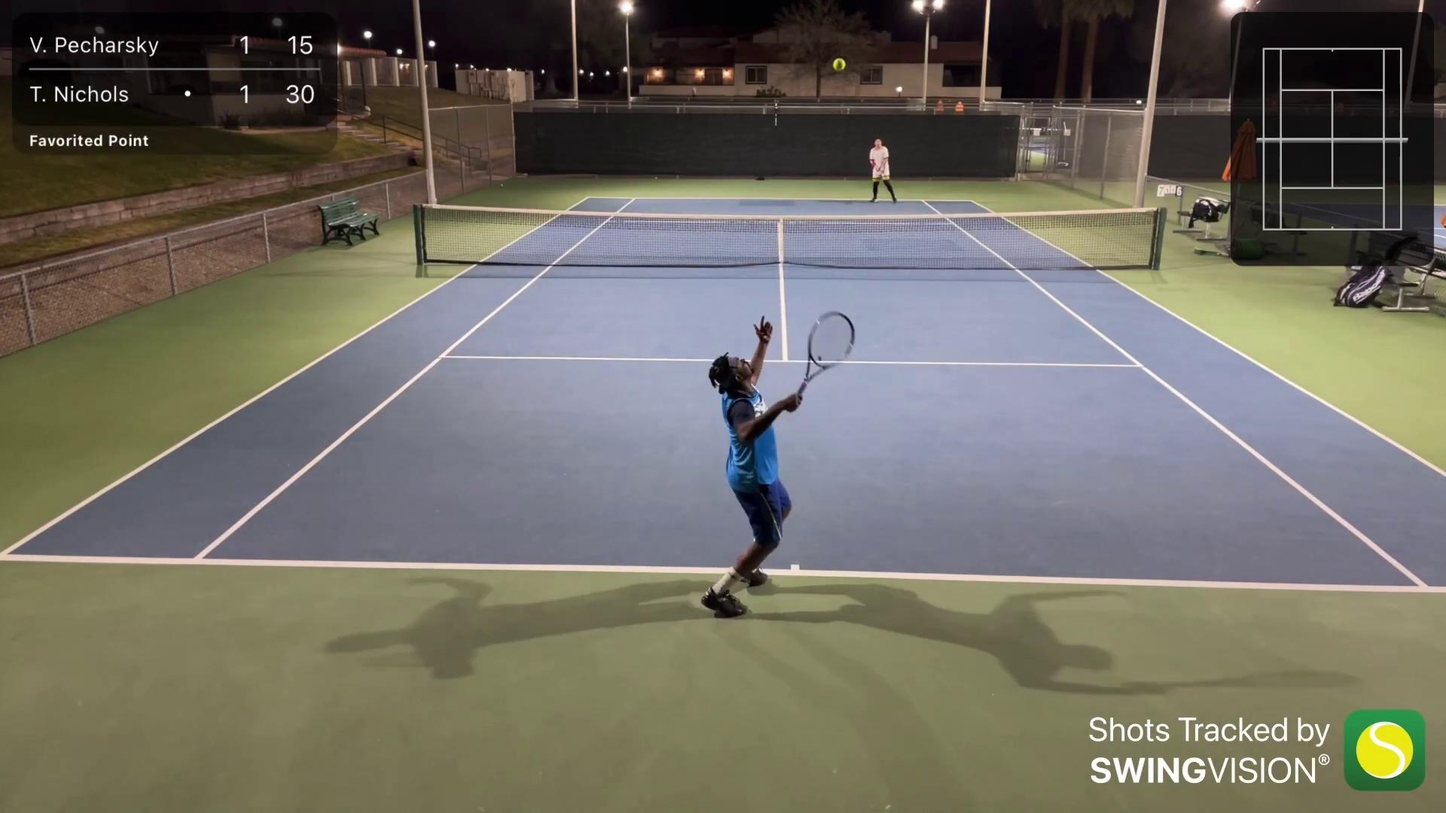ball: (832, 57, 847, 72)
